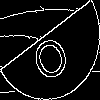O: (25, 25, 73, 85)
